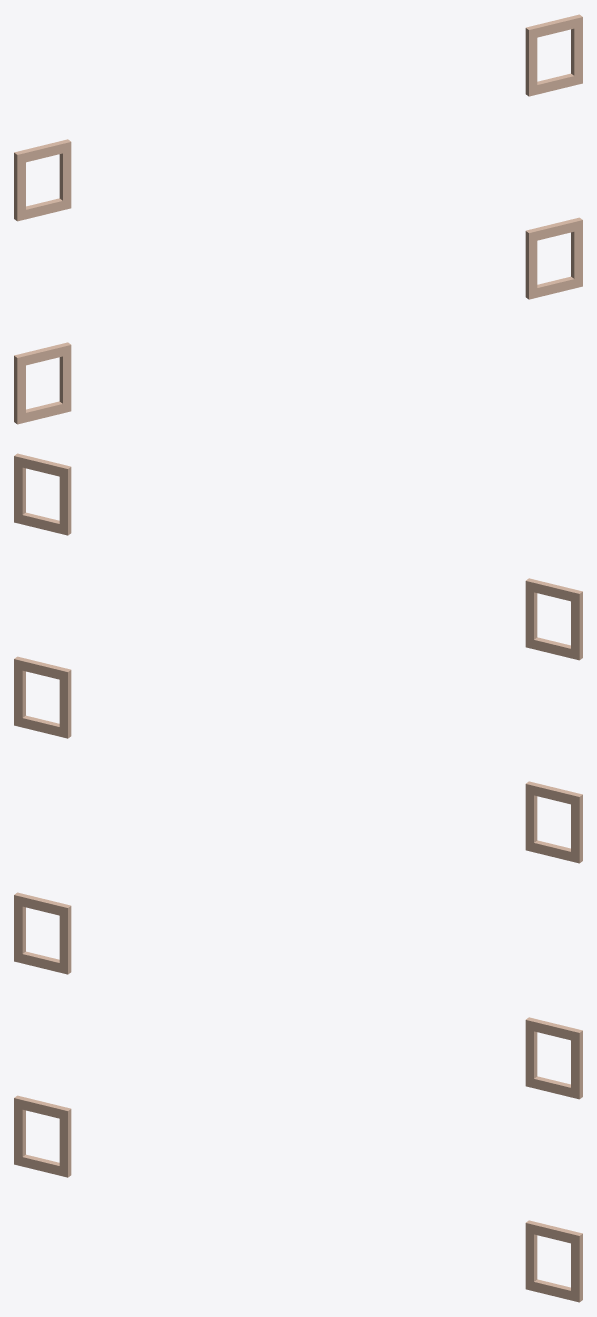
Rendered from DoorWall_Fenster_Rahmen.fbx.
The picture shows the model from 3 angles, top to bottom: view 1: azimuth 30°, elevation 25°; view 2: azimuth 150°, elevation 25°; view 3: azimuth 330°, elevation 25°; orthographic projection.
Parts seen in each view (by area): view 1: Innenhof_Rahmen_WandL; view 2: Innenhof_Rahmen_WandL; view 3: Innenhof_Rahmen_WandL.
Part boxes in pixels (x1=…): Innenhof_Rahmen_WandL: x1=14, y1=14, x2=582, y2=424; Innenhof_Rahmen_WandL: x1=14, y1=453, x2=582, y2=863; Innenhof_Rahmen_WandL: x1=14, y1=892, x2=582, y2=1302.
Size of the model in its own units: 1027 by 467 by 10.8.
